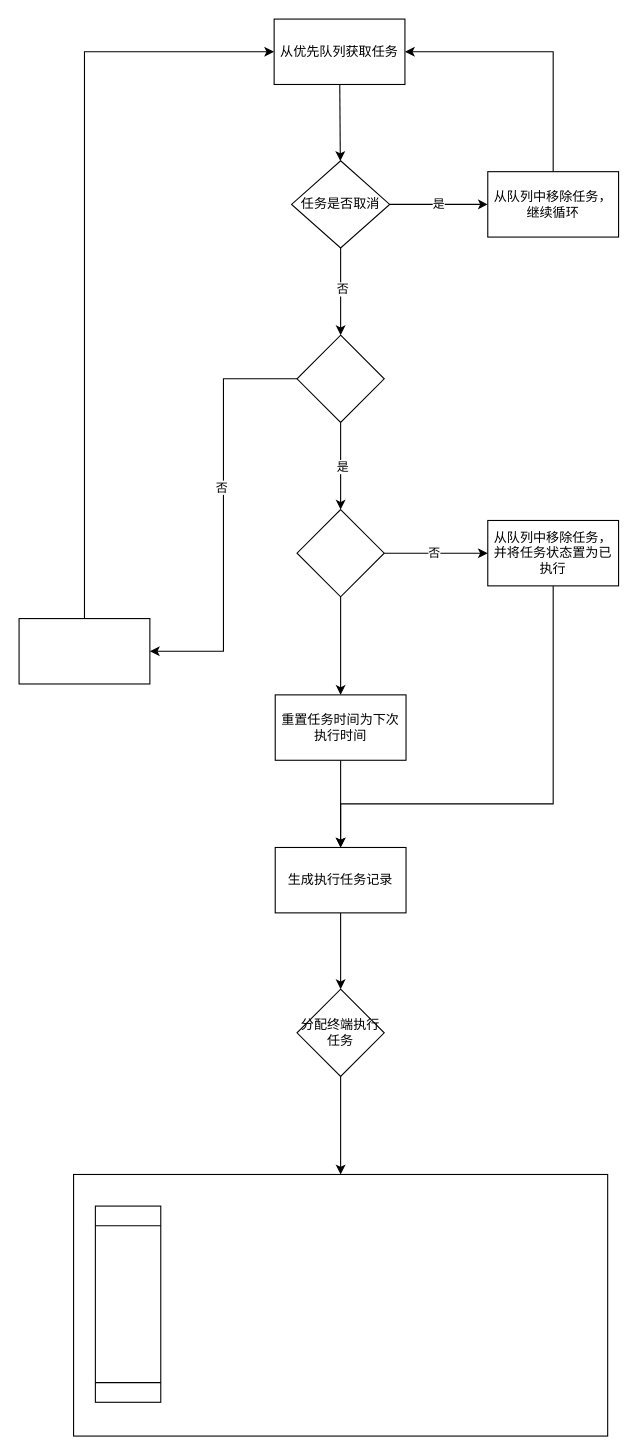
This 638x1455 diagram has some shape labels left out. Each missing label, with the centre of its shape:
"是否到执行时间" belongs at point (340, 378).
"是否是周期任务" belongs at point (340, 552).
"等待直到任务开始" belongs at point (84, 650).
